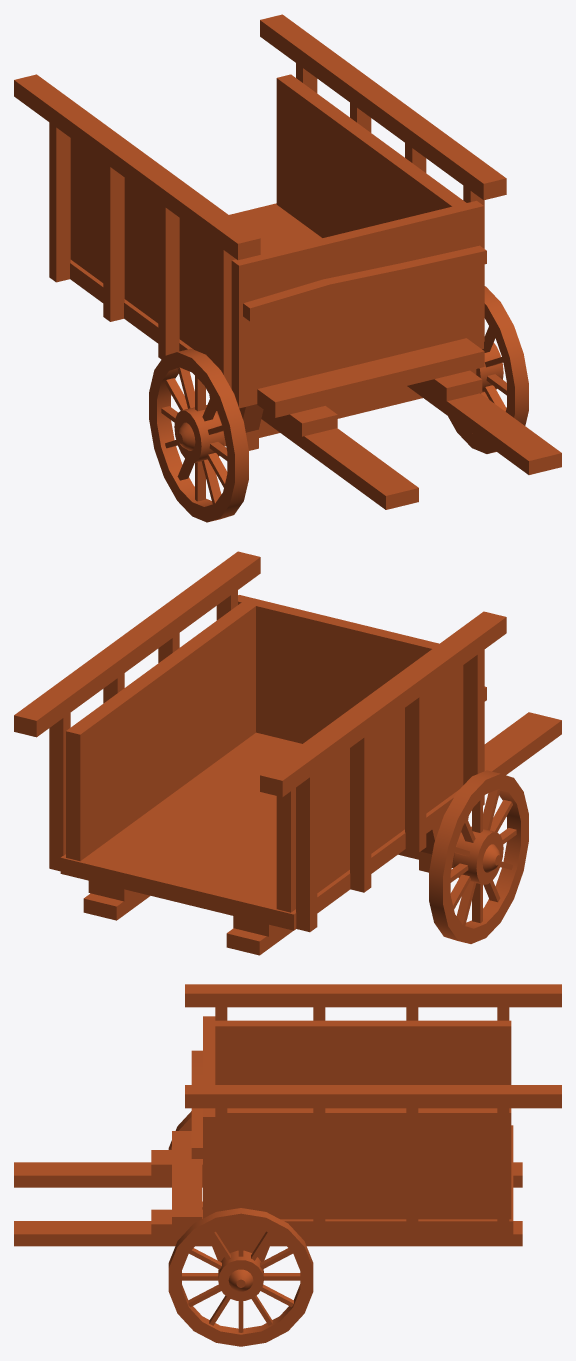
Rendered from Wagon.fbx.
The picture shows the model from 3 angles, top to bottom: view 1: azimuth 30°, elevation 25°; view 2: azimuth 150°, elevation 25°; view 3: azimuth 270°, elevation 25°; orthographic projection. The views are drawn at different scales.
Visible parts, largest first — view 1: Box010, WheelL, WheelR; view 2: Box010, WheelL; view 3: Box010, WheelR.
Part boxes in pixels (<box>): Box010: <box>14,14,561,509</box>; WheelL: <box>149,348,248,522</box>; WheelR: <box>448,286,528,453</box>; Box010: <box>14,551,561,955</box>; WheelL: <box>429,770,528,943</box>; Box010: <box>14,984,561,1261</box>; WheelR: <box>168,1208,313,1346</box>.
Size of the model in its own units: 150 by 133 by 267.
